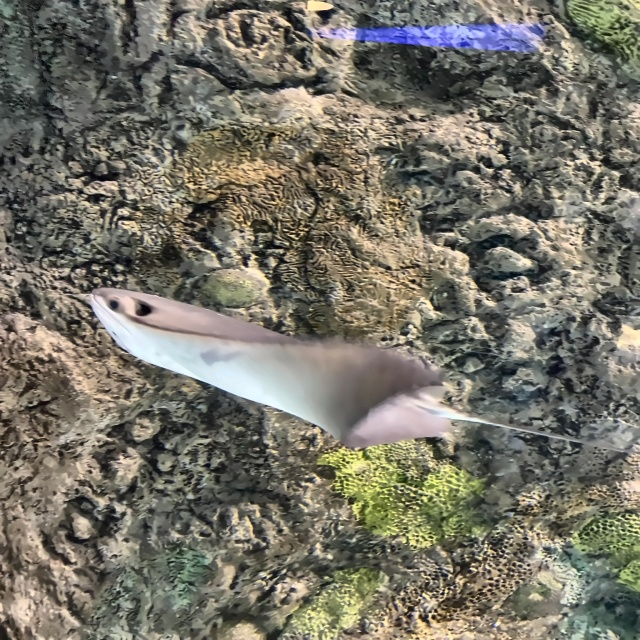stingray: (85, 284, 455, 451)
